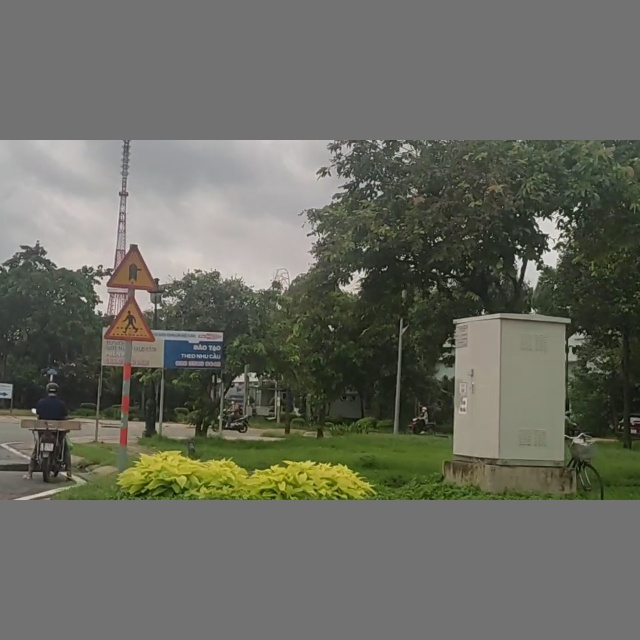W.207: (108, 244, 160, 292)
W.224: (105, 296, 158, 343)
